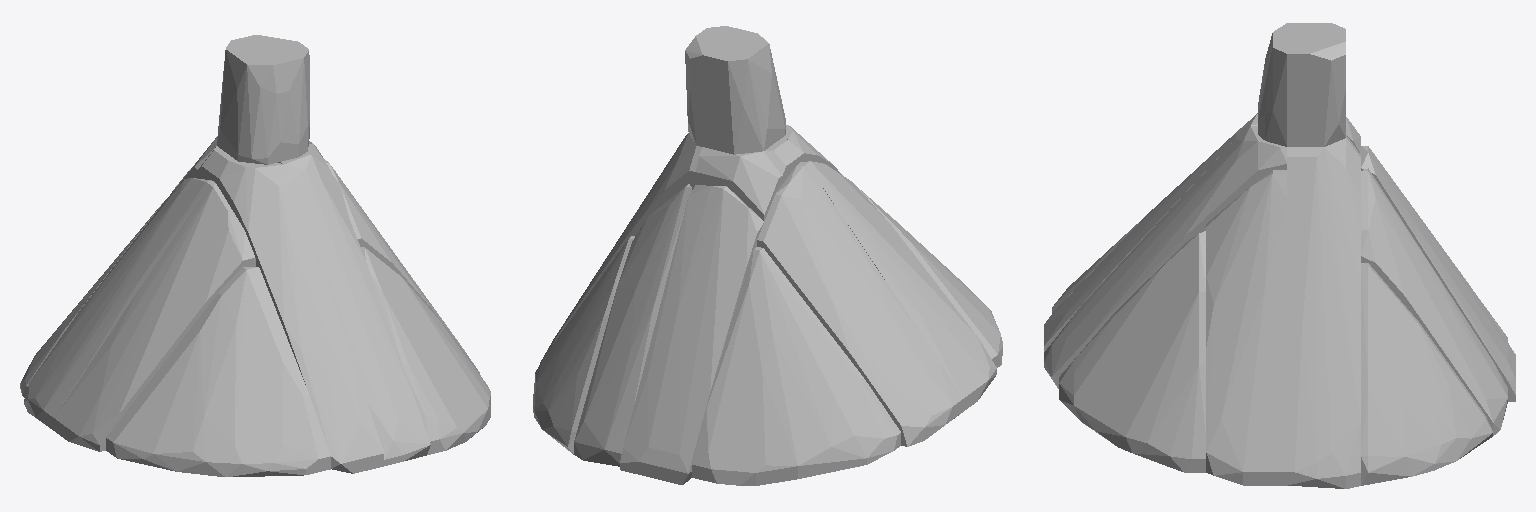
robot.urdf — root:
<robot name="root">
  <link name="link_thingiverse~funnel_2774225_convex_piece_0">
    <inertial>
      <origin rpy="0 0 0" xyz="0 0 0"/>
      <mass value="1.35E-02"/>
      <inertia ixx="5.62E-05" ixy="3.50E-07" ixz="4.13E-06" iyy="5.62E-05" iyz="4.44E-06" izz="2.00E-06"/>
    </inertial>
    <visual>
      <origin rpy="0 0 0" xyz="0 0 0"/>
      <geometry>
        <mesh filename="thingiverse~funnel_2774225_convex_piece_0.obj" scale="1.0000E+00 1.0000E+00 1.0000E+00"/>
      </geometry>
      <material name="">
        <color rgba="7.50E-01 7.50E-01 7.50E-01 1"/>
      </material>
    </visual>
    <collision>
      <origin rpy="0 0 0" xyz="0 0 0"/>
      <geometry>
        <mesh filename="thingiverse~funnel_2774225_convex_piece_0.obj" scale="1.0000E+00 1.0000E+00 1.0000E+00"/>
      </geometry>
    </collision>
  </link>
  <link name="link_thingiverse~funnel_2774225_convex_piece_1">
    <inertial>
      <origin rpy="0 0 0" xyz="0 0 0"/>
      <mass value="1.96E-02"/>
      <inertia ixx="4.88E-05" ixy="3.30E-05" ixz="1.21E-05" iyy="3.93E-05" iyz="1.38E-05" izz="7.48E-05"/>
    </inertial>
    <visual>
      <origin rpy="0 0 0" xyz="0 0 0"/>
      <geometry>
        <mesh filename="thingiverse~funnel_2774225_convex_piece_1.obj" scale="1.0000E+00 1.0000E+00 1.0000E+00"/>
      </geometry>
      <material name="">
        <color rgba="7.50E-01 7.50E-01 7.50E-01 1"/>
      </material>
    </visual>
    <collision>
      <origin rpy="0 0 0" xyz="0 0 0"/>
      <geometry>
        <mesh filename="thingiverse~funnel_2774225_convex_piece_1.obj" scale="1.0000E+00 1.0000E+00 1.0000E+00"/>
      </geometry>
    </collision>
  </link>
  <joint name="link_thingiverse~funnel_2774225_convex_piece_1_joint" type="fixed">
    <origin rpy="0 0 0" xyz="0 0 0"/>
    <parent link="link_thingiverse~funnel_2774225_convex_piece_0"/>
    <child link="link_thingiverse~funnel_2774225_convex_piece_1"/>
  </joint>
  <link name="link_thingiverse~funnel_2774225_convex_piece_2">
    <inertial>
      <origin rpy="0 0 0" xyz="0 0 0"/>
      <mass value="1.46E-02"/>
      <inertia ixx="7.87E-06" ixy="8.68E-06" ixz="3.68E-06" iyy="3.84E-05" iyz="7.28E-08" izz="3.71E-05"/>
    </inertial>
    <visual>
      <origin rpy="0 0 0" xyz="0 0 0"/>
      <geometry>
        <mesh filename="thingiverse~funnel_2774225_convex_piece_2.obj" scale="1.0000E+00 1.0000E+00 1.0000E+00"/>
      </geometry>
      <material name="">
        <color rgba="7.50E-01 7.50E-01 7.50E-01 1"/>
      </material>
    </visual>
    <collision>
      <origin rpy="0 0 0" xyz="0 0 0"/>
      <geometry>
        <mesh filename="thingiverse~funnel_2774225_convex_piece_2.obj" scale="1.0000E+00 1.0000E+00 1.0000E+00"/>
      </geometry>
    </collision>
  </link>
  <joint name="link_thingiverse~funnel_2774225_convex_piece_2_joint" type="fixed">
    <origin rpy="0 0 0" xyz="0 0 0"/>
    <parent link="link_thingiverse~funnel_2774225_convex_piece_1"/>
    <child link="link_thingiverse~funnel_2774225_convex_piece_2"/>
  </joint>
  <link name="link_thingiverse~funnel_2774225_convex_piece_3">
    <inertial>
      <origin rpy="0 0 0" xyz="0 0 0"/>
      <mass value="1.69E-02"/>
      <inertia ixx="1.00E-05" ixy="-1.01E-05" ixz="5.50E-06" iyy="4.42E-05" iyz="-5.31E-07" izz="4.23E-05"/>
    </inertial>
    <visual>
      <origin rpy="0 0 0" xyz="0 0 0"/>
      <geometry>
        <mesh filename="thingiverse~funnel_2774225_convex_piece_3.obj" scale="1.0000E+00 1.0000E+00 1.0000E+00"/>
      </geometry>
      <material name="">
        <color rgba="7.50E-01 7.50E-01 7.50E-01 1"/>
      </material>
    </visual>
    <collision>
      <origin rpy="0 0 0" xyz="0 0 0"/>
      <geometry>
        <mesh filename="thingiverse~funnel_2774225_convex_piece_3.obj" scale="1.0000E+00 1.0000E+00 1.0000E+00"/>
      </geometry>
    </collision>
  </link>
  <joint name="link_thingiverse~funnel_2774225_convex_piece_3_joint" type="fixed">
    <origin rpy="0 0 0" xyz="0 0 0"/>
    <parent link="link_thingiverse~funnel_2774225_convex_piece_2"/>
    <child link="link_thingiverse~funnel_2774225_convex_piece_3"/>
  </joint>
  <link name="link_thingiverse~funnel_2774225_convex_piece_4">
    <inertial>
      <origin rpy="0 0 0" xyz="0 0 0"/>
      <mass value="1.87E-02"/>
      <inertia ixx="4.89E-05" ixy="-2.95E-05" ixz="1.58E-05" iyy="4.04E-05" iyz="-1.84E-05" izz="6.62E-05"/>
    </inertial>
    <visual>
      <origin rpy="0 0 0" xyz="0 0 0"/>
      <geometry>
        <mesh filename="thingiverse~funnel_2774225_convex_piece_4.obj" scale="1.0000E+00 1.0000E+00 1.0000E+00"/>
      </geometry>
      <material name="">
        <color rgba="7.50E-01 7.50E-01 7.50E-01 1"/>
      </material>
    </visual>
    <collision>
      <origin rpy="0 0 0" xyz="0 0 0"/>
      <geometry>
        <mesh filename="thingiverse~funnel_2774225_convex_piece_4.obj" scale="1.0000E+00 1.0000E+00 1.0000E+00"/>
      </geometry>
    </collision>
  </link>
  <joint name="link_thingiverse~funnel_2774225_convex_piece_4_joint" type="fixed">
    <origin rpy="0 0 0" xyz="0 0 0"/>
    <parent link="link_thingiverse~funnel_2774225_convex_piece_3"/>
    <child link="link_thingiverse~funnel_2774225_convex_piece_4"/>
  </joint>
  <link name="link_thingiverse~funnel_2774225_convex_piece_5">
    <inertial>
      <origin rpy="0 0 0" xyz="0 0 0"/>
      <mass value="1.44E-02"/>
      <inertia ixx="3.32E-05" ixy="4.13E-06" ixz="-1.13E-06" iyy="9.17E-06" iyz="8.64E-07" izz="2.67E-05"/>
    </inertial>
    <visual>
      <origin rpy="0 0 0" xyz="0 0 0"/>
      <geometry>
        <mesh filename="thingiverse~funnel_2774225_convex_piece_5.obj" scale="1.0000E+00 1.0000E+00 1.0000E+00"/>
      </geometry>
      <material name="">
        <color rgba="7.50E-01 7.50E-01 7.50E-01 1"/>
      </material>
    </visual>
    <collision>
      <origin rpy="0 0 0" xyz="0 0 0"/>
      <geometry>
        <mesh filename="thingiverse~funnel_2774225_convex_piece_5.obj" scale="1.0000E+00 1.0000E+00 1.0000E+00"/>
      </geometry>
    </collision>
  </link>
  <joint name="link_thingiverse~funnel_2774225_convex_piece_5_joint" type="fixed">
    <origin rpy="0 0 0" xyz="0 0 0"/>
    <parent link="link_thingiverse~funnel_2774225_convex_piece_4"/>
    <child link="link_thingiverse~funnel_2774225_convex_piece_5"/>
  </joint>
  <link name="link_thingiverse~funnel_2774225_convex_piece_6">
    <inertial>
      <origin rpy="0 0 0" xyz="0 0 0"/>
      <mass value="1.50E-02"/>
      <inertia ixx="3.51E-05" ixy="-6.15E-06" ixz="1.27E-06" iyy="1.07E-05" iyz="2.21E-06" izz="2.90E-05"/>
    </inertial>
    <visual>
      <origin rpy="0 0 0" xyz="0 0 0"/>
      <geometry>
        <mesh filename="thingiverse~funnel_2774225_convex_piece_6.obj" scale="1.0000E+00 1.0000E+00 1.0000E+00"/>
      </geometry>
      <material name="">
        <color rgba="7.50E-01 7.50E-01 7.50E-01 1"/>
      </material>
    </visual>
    <collision>
      <origin rpy="0 0 0" xyz="0 0 0"/>
      <geometry>
        <mesh filename="thingiverse~funnel_2774225_convex_piece_6.obj" scale="1.0000E+00 1.0000E+00 1.0000E+00"/>
      </geometry>
    </collision>
  </link>
  <joint name="link_thingiverse~funnel_2774225_convex_piece_6_joint" type="fixed">
    <origin rpy="0 0 0" xyz="0 0 0"/>
    <parent link="link_thingiverse~funnel_2774225_convex_piece_5"/>
    <child link="link_thingiverse~funnel_2774225_convex_piece_6"/>
  </joint>
  <link name="link_thingiverse~funnel_2774225_convex_piece_7">
    <inertial>
      <origin rpy="0 0 0" xyz="0 0 0"/>
      <mass value="1.71E-02"/>
      <inertia ixx="4.47E-05" ixy="-2.75E-05" ixz="-1.51E-05" iyy="3.75E-05" iyz="1.65E-05" izz="6.13E-05"/>
    </inertial>
    <visual>
      <origin rpy="0 0 0" xyz="0 0 0"/>
      <geometry>
        <mesh filename="thingiverse~funnel_2774225_convex_piece_7.obj" scale="1.0000E+00 1.0000E+00 1.0000E+00"/>
      </geometry>
      <material name="">
        <color rgba="7.50E-01 7.50E-01 7.50E-01 1"/>
      </material>
    </visual>
    <collision>
      <origin rpy="0 0 0" xyz="0 0 0"/>
      <geometry>
        <mesh filename="thingiverse~funnel_2774225_convex_piece_7.obj" scale="1.0000E+00 1.0000E+00 1.0000E+00"/>
      </geometry>
    </collision>
  </link>
  <joint name="link_thingiverse~funnel_2774225_convex_piece_7_joint" type="fixed">
    <origin rpy="0 0 0" xyz="0 0 0"/>
    <parent link="link_thingiverse~funnel_2774225_convex_piece_6"/>
    <child link="link_thingiverse~funnel_2774225_convex_piece_7"/>
  </joint>
  <link name="link_thingiverse~funnel_2774225_convex_piece_8">
    <inertial>
      <origin rpy="0 0 0" xyz="0 0 0"/>
      <mass value="1.53E-02"/>
      <inertia ixx="1.06E-05" ixy="-8.75E-06" ixz="-8.18E-06" iyy="3.94E-05" iyz="1.44E-06" izz="3.56E-05"/>
    </inertial>
    <visual>
      <origin rpy="0 0 0" xyz="0 0 0"/>
      <geometry>
        <mesh filename="thingiverse~funnel_2774225_convex_piece_8.obj" scale="1.0000E+00 1.0000E+00 1.0000E+00"/>
      </geometry>
      <material name="">
        <color rgba="7.50E-01 7.50E-01 7.50E-01 1"/>
      </material>
    </visual>
    <collision>
      <origin rpy="0 0 0" xyz="0 0 0"/>
      <geometry>
        <mesh filename="thingiverse~funnel_2774225_convex_piece_8.obj" scale="1.0000E+00 1.0000E+00 1.0000E+00"/>
      </geometry>
    </collision>
  </link>
  <joint name="link_thingiverse~funnel_2774225_convex_piece_8_joint" type="fixed">
    <origin rpy="0 0 0" xyz="0 0 0"/>
    <parent link="link_thingiverse~funnel_2774225_convex_piece_7"/>
    <child link="link_thingiverse~funnel_2774225_convex_piece_8"/>
  </joint>
  <link name="link_thingiverse~funnel_2774225_convex_piece_9">
    <inertial>
      <origin rpy="0 0 0" xyz="0 0 0"/>
      <mass value="1.46E-02"/>
      <inertia ixx="4.00E-05" ixy="-2.77E-06" ixz="3.96E-07" iyy="8.21E-06" iyz="-7.69E-06" izz="3.38E-05"/>
    </inertial>
    <visual>
      <origin rpy="0 0 0" xyz="0 0 0"/>
      <geometry>
        <mesh filename="thingiverse~funnel_2774225_convex_piece_9.obj" scale="1.0000E+00 1.0000E+00 1.0000E+00"/>
      </geometry>
      <material name="">
        <color rgba="7.50E-01 7.50E-01 7.50E-01 1"/>
      </material>
    </visual>
    <collision>
      <origin rpy="0 0 0" xyz="0 0 0"/>
      <geometry>
        <mesh filename="thingiverse~funnel_2774225_convex_piece_9.obj" scale="1.0000E+00 1.0000E+00 1.0000E+00"/>
      </geometry>
    </collision>
  </link>
  <joint name="link_thingiverse~funnel_2774225_convex_piece_9_joint" type="fixed">
    <origin rpy="0 0 0" xyz="0 0 0"/>
    <parent link="link_thingiverse~funnel_2774225_convex_piece_8"/>
    <child link="link_thingiverse~funnel_2774225_convex_piece_9"/>
  </joint>
  <link name="link_thingiverse~funnel_2774225_convex_piece_10">
    <inertial>
      <origin rpy="0 0 0" xyz="0 0 0"/>
      <mass value="1.84E-02"/>
      <inertia ixx="1.53E-05" ixy="7.85E-06" ixz="-6.18E-06" iyy="4.36E-05" iyz="2.45E-07" izz="3.46E-05"/>
    </inertial>
    <visual>
      <origin rpy="0 0 0" xyz="0 0 0"/>
      <geometry>
        <mesh filename="thingiverse~funnel_2774225_convex_piece_10.obj" scale="1.0000E+00 1.0000E+00 1.0000E+00"/>
      </geometry>
      <material name="">
        <color rgba="7.50E-01 7.50E-01 7.50E-01 1"/>
      </material>
    </visual>
    <collision>
      <origin rpy="0 0 0" xyz="0 0 0"/>
      <geometry>
        <mesh filename="thingiverse~funnel_2774225_convex_piece_10.obj" scale="1.0000E+00 1.0000E+00 1.0000E+00"/>
      </geometry>
    </collision>
  </link>
  <joint name="link_thingiverse~funnel_2774225_convex_piece_10_joint" type="fixed">
    <origin rpy="0 0 0" xyz="0 0 0"/>
    <parent link="link_thingiverse~funnel_2774225_convex_piece_9"/>
    <child link="link_thingiverse~funnel_2774225_convex_piece_10"/>
  </joint>
  <link name="link_thingiverse~funnel_2774225_convex_piece_11">
    <inertial>
      <origin rpy="0 0 0" xyz="0 0 0"/>
      <mass value="9.52E-04"/>
      <inertia ixx="1.70E-06" ixy="-6.18E-08" ixz="-4.54E-07" iyy="1.80E-06" iyz="2.22E-07" izz="1.80E-07"/>
    </inertial>
    <visual>
      <origin rpy="0 0 0" xyz="0 0 0"/>
      <geometry>
        <mesh filename="thingiverse~funnel_2774225_convex_piece_11.obj" scale="1.0000E+00 1.0000E+00 1.0000E+00"/>
      </geometry>
      <material name="">
        <color rgba="7.50E-01 7.50E-01 7.50E-01 1"/>
      </material>
    </visual>
    <collision>
      <origin rpy="0 0 0" xyz="0 0 0"/>
      <geometry>
        <mesh filename="thingiverse~funnel_2774225_convex_piece_11.obj" scale="1.0000E+00 1.0000E+00 1.0000E+00"/>
      </geometry>
    </collision>
  </link>
  <joint name="link_thingiverse~funnel_2774225_convex_piece_11_joint" type="fixed">
    <origin rpy="0 0 0" xyz="0 0 0"/>
    <parent link="link_thingiverse~funnel_2774225_convex_piece_10"/>
    <child link="link_thingiverse~funnel_2774225_convex_piece_11"/>
  </joint>
  <link name="link_thingiverse~funnel_2774225_convex_piece_12">
    <inertial>
      <origin rpy="0 0 0" xyz="0 0 0"/>
      <mass value="2.96E-03"/>
      <inertia ixx="5.10E-06" ixy="-2.23E-07" ixz="-4.46E-07" iyy="4.38E-06" iyz="1.88E-06" izz="1.12E-06"/>
    </inertial>
    <visual>
      <origin rpy="0 0 0" xyz="0 0 0"/>
      <geometry>
        <mesh filename="thingiverse~funnel_2774225_convex_piece_12.obj" scale="1.0000E+00 1.0000E+00 1.0000E+00"/>
      </geometry>
      <material name="">
        <color rgba="7.50E-01 7.50E-01 7.50E-01 1"/>
      </material>
    </visual>
    <collision>
      <origin rpy="0 0 0" xyz="0 0 0"/>
      <geometry>
        <mesh filename="thingiverse~funnel_2774225_convex_piece_12.obj" scale="1.0000E+00 1.0000E+00 1.0000E+00"/>
      </geometry>
    </collision>
  </link>
  <joint name="link_thingiverse~funnel_2774225_convex_piece_12_joint" type="fixed">
    <origin rpy="0 0 0" xyz="0 0 0"/>
    <parent link="link_thingiverse~funnel_2774225_convex_piece_11"/>
    <child link="link_thingiverse~funnel_2774225_convex_piece_12"/>
  </joint>
  <link name="link_thingiverse~funnel_2774225_convex_piece_13">
    <inertial>
      <origin rpy="0 0 0" xyz="0 0 0"/>
      <mass value="1.21E-02"/>
      <inertia ixx="3.13E-05" ixy="9.99E-06" ixz="-2.73E-06" iyy="1.09E-05" iyz="-8.49E-06" izz="2.98E-05"/>
    </inertial>
    <visual>
      <origin rpy="0 0 0" xyz="0 0 0"/>
      <geometry>
        <mesh filename="thingiverse~funnel_2774225_convex_piece_13.obj" scale="1.0000E+00 1.0000E+00 1.0000E+00"/>
      </geometry>
      <material name="">
        <color rgba="7.50E-01 7.50E-01 7.50E-01 1"/>
      </material>
    </visual>
    <collision>
      <origin rpy="0 0 0" xyz="0 0 0"/>
      <geometry>
        <mesh filename="thingiverse~funnel_2774225_convex_piece_13.obj" scale="1.0000E+00 1.0000E+00 1.0000E+00"/>
      </geometry>
    </collision>
  </link>
  <joint name="link_thingiverse~funnel_2774225_convex_piece_13_joint" type="fixed">
    <origin rpy="0 0 0" xyz="0 0 0"/>
    <parent link="link_thingiverse~funnel_2774225_convex_piece_12"/>
    <child link="link_thingiverse~funnel_2774225_convex_piece_13"/>
  </joint>
  <link name="link_thingiverse~funnel_2774225_convex_piece_14">
    <inertial>
      <origin rpy="0 0 0" xyz="0 0 0"/>
      <mass value="1.21E-02"/>
      <inertia ixx="2.97E-05" ixy="1.89E-05" ixz="-1.52E-05" iyy="3.46E-05" iyz="-1.34E-05" izz="4.08E-05"/>
    </inertial>
    <visual>
      <origin rpy="0 0 0" xyz="0 0 0"/>
      <geometry>
        <mesh filename="thingiverse~funnel_2774225_convex_piece_14.obj" scale="1.0000E+00 1.0000E+00 1.0000E+00"/>
      </geometry>
      <material name="">
        <color rgba="7.50E-01 7.50E-01 7.50E-01 1"/>
      </material>
    </visual>
    <collision>
      <origin rpy="0 0 0" xyz="0 0 0"/>
      <geometry>
        <mesh filename="thingiverse~funnel_2774225_convex_piece_14.obj" scale="1.0000E+00 1.0000E+00 1.0000E+00"/>
      </geometry>
    </collision>
  </link>
  <joint name="link_thingiverse~funnel_2774225_convex_piece_14_joint" type="fixed">
    <origin rpy="0 0 0" xyz="0 0 0"/>
    <parent link="link_thingiverse~funnel_2774225_convex_piece_13"/>
    <child link="link_thingiverse~funnel_2774225_convex_piece_14"/>
  </joint>
</robot>

--- Facts derived from the render (not from the file) ---
Views: 3 orthographic renders of the robot side by side, from view 1: azimuth 30°, elevation 25°; view 2: azimuth 150°, elevation 25°; view 3: azimuth 270°, elevation 25°.
Robot: root — 15 links, 14 joints (14 fixed); root link link_thingiverse~funnel_2774225_convex_piece_0; default pose: every joint at zero.
Visible links, largest first — view 1: link_thingiverse~funnel_2774225_convex_piece_1, link_thingiverse~funnel_2774225_convex_piece_5, link_thingiverse~funnel_2774225_convex_piece_2, link_thingiverse~funnel_2774225_convex_piece_6, link_thingiverse~funnel_2774225_convex_piece_0, link_thingiverse~funnel_2774225_convex_piece_7, link_thingiverse~funnel_2774225_convex_piece_3, link_thingiverse~funnel_2774225_convex_piece_8, link_thingiverse~funnel_2774225_convex_piece_4, link_thingiverse~funnel_2774225_convex_piece_11; view 2: link_thingiverse~funnel_2774225_convex_piece_4, link_thingiverse~funnel_2774225_convex_piece_3, link_thingiverse~funnel_2774225_convex_piece_9, link_thingiverse~funnel_2774225_convex_piece_13, link_thingiverse~funnel_2774225_convex_piece_0, link_thingiverse~funnel_2774225_convex_piece_2, link_thingiverse~funnel_2774225_convex_piece_14, link_thingiverse~funnel_2774225_convex_piece_12, link_thingiverse~funnel_2774225_convex_piece_1, link_thingiverse~funnel_2774225_convex_piece_10, link_thingiverse~funnel_2774225_convex_piece_11, link_thingiverse~funnel_2774225_convex_piece_5; view 3: link_thingiverse~funnel_2774225_convex_piece_10, link_thingiverse~funnel_2774225_convex_piece_8, link_thingiverse~funnel_2774225_convex_piece_7, link_thingiverse~funnel_2774225_convex_piece_14, link_thingiverse~funnel_2774225_convex_piece_6, link_thingiverse~funnel_2774225_convex_piece_13, link_thingiverse~funnel_2774225_convex_piece_0, link_thingiverse~funnel_2774225_convex_piece_9, link_thingiverse~funnel_2774225_convex_piece_5.
Link boxes in pixels (box(x1,y1,x2,y2)): link_thingiverse~funnel_2774225_convex_piece_1: box(106, 267, 330, 476); link_thingiverse~funnel_2774225_convex_piece_5: box(216, 159, 383, 473); link_thingiverse~funnel_2774225_convex_piece_2: box(54, 183, 255, 451); link_thingiverse~funnel_2774225_convex_piece_6: box(278, 143, 430, 465); link_thingiverse~funnel_2774225_convex_piece_0: box(217, 35, 309, 164); link_thingiverse~funnel_2774225_convex_piece_7: box(361, 247, 490, 454); link_thingiverse~funnel_2774225_convex_piece_3: box(24, 178, 214, 430); link_thingiverse~funnel_2774225_convex_piece_8: box(323, 158, 479, 373); link_thingiverse~funnel_2774225_convex_piece_4: box(20, 202, 163, 397); link_thingiverse~funnel_2774225_convex_piece_11: box(198, 146, 233, 182); link_thingiverse~funnel_2774225_convex_piece_4: box(692, 247, 900, 485); link_thingiverse~funnel_2774225_convex_piece_3: box(757, 162, 962, 446); link_thingiverse~funnel_2774225_convex_piece_9: box(620, 185, 763, 484); link_thingiverse~funnel_2774225_convex_piece_13: box(574, 184, 691, 466); link_thingiverse~funnel_2774225_convex_piece_0: box(685, 26, 785, 154); link_thingiverse~funnel_2774225_convex_piece_2: box(801, 161, 996, 411); link_thingiverse~funnel_2774225_convex_piece_14: box(533, 236, 634, 454); link_thingiverse~funnel_2774225_convex_piece_12: box(696, 147, 782, 221); link_thingiverse~funnel_2774225_convex_piece_1: box(859, 189, 1002, 367); link_thingiverse~funnel_2774225_convex_piece_10: box(540, 133, 702, 362); link_thingiverse~funnel_2774225_convex_piece_11: box(764, 138, 800, 182); link_thingiverse~funnel_2774225_convex_piece_5: box(783, 125, 841, 174); link_thingiverse~funnel_2774225_convex_piece_10: box(1287, 135, 1360, 488); link_thingiverse~funnel_2774225_convex_piece_8: box(1206, 170, 1286, 485); link_thingiverse~funnel_2774225_convex_piece_7: box(1059, 231, 1205, 472); link_thingiverse~funnel_2774225_convex_piece_14: box(1361, 263, 1492, 485); link_thingiverse~funnel_2774225_convex_piece_6: box(1044, 126, 1286, 388); link_thingiverse~funnel_2774225_convex_piece_13: box(1361, 168, 1507, 435); link_thingiverse~funnel_2774225_convex_piece_0: box(1258, 23, 1345, 146); link_thingiverse~funnel_2774225_convex_piece_9: box(1361, 146, 1515, 401); link_thingiverse~funnel_2774225_convex_piece_5: box(1044, 113, 1257, 351).
Bounding box of the posed robot: 0.1487 × 0.1487 × 0.1278 m (x, y, z).
15 mesh visuals loaded from 15 distinct referenced files (15 OBJ).
